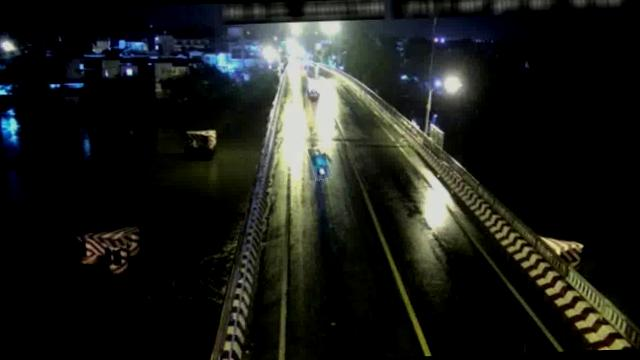Bike: (308, 146, 330, 180)
